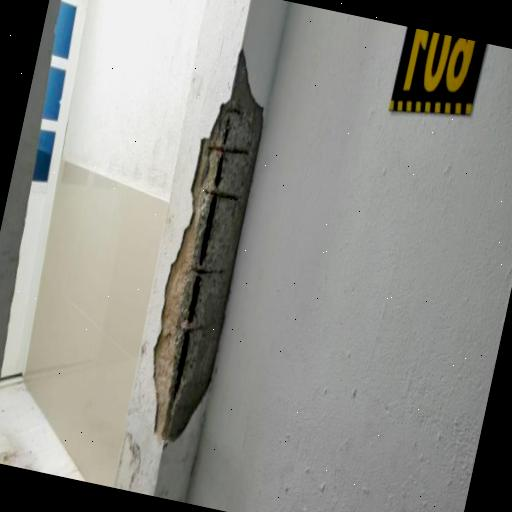spalling: (159, 63, 260, 432)
